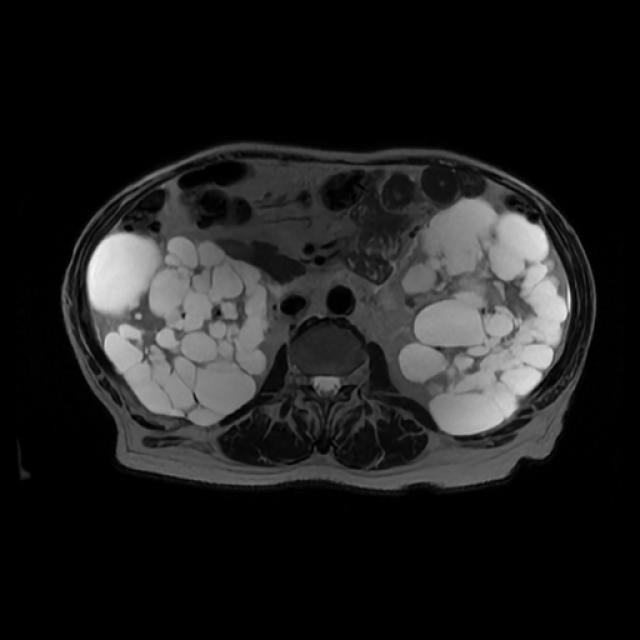sag: (84, 232, 270, 425)
sol: (397, 197, 568, 438)
